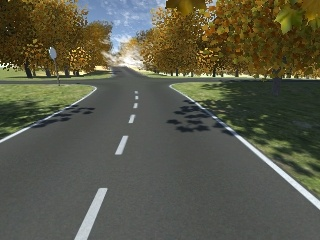Line slipt: (117, 102, 140, 156)
